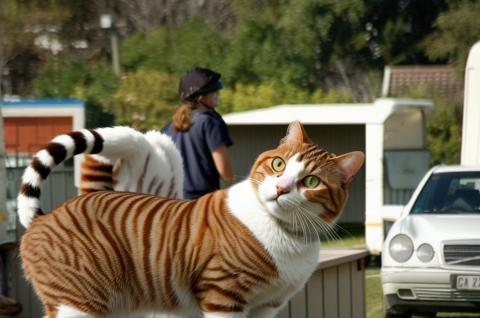car: (1, 151, 169, 268), (381, 164, 480, 318)
cat: (15, 122, 365, 318)
person: (173, 66, 288, 274)
person/foot: (257, 245, 285, 271)
person/hand: (260, 142, 274, 152), (244, 154, 253, 167)
person/head: (180, 68, 219, 111)
